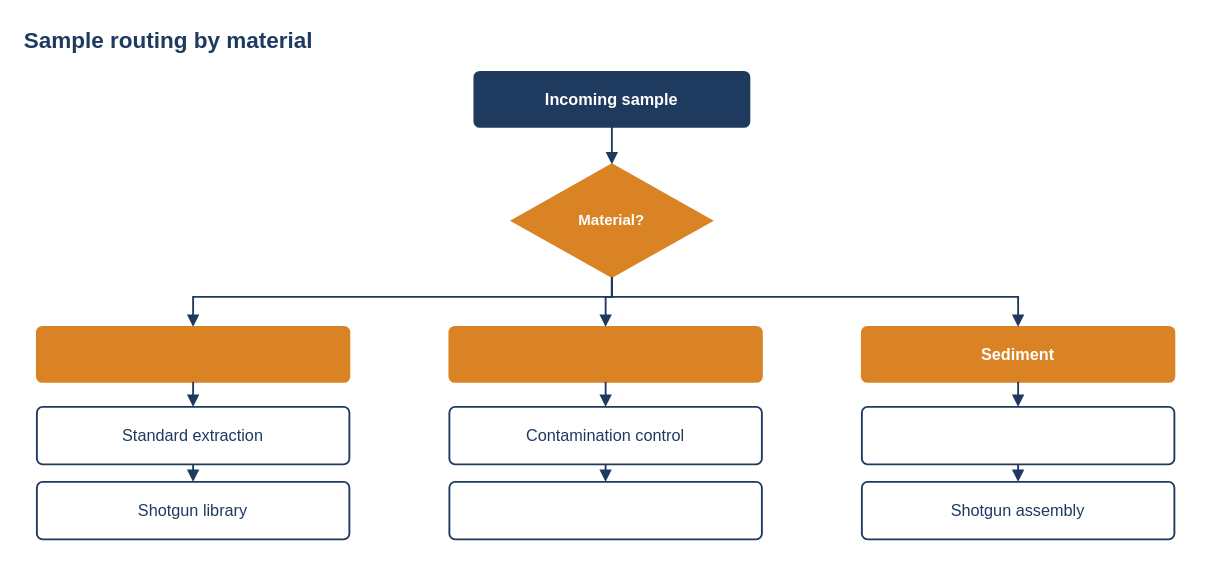
The diagram is 1210 pixels wide and 561 high, and some of its shapes have lost their labels. The shapes that lost their labels are listed below. From the top down, each one's centre as x and y in pixels, then its label:
the point at 192,353: Fresh tissue
the point at 605,353: Museum specimen
the point at 1017,435: Metagenome extraction
the point at 605,510: Low-input library
